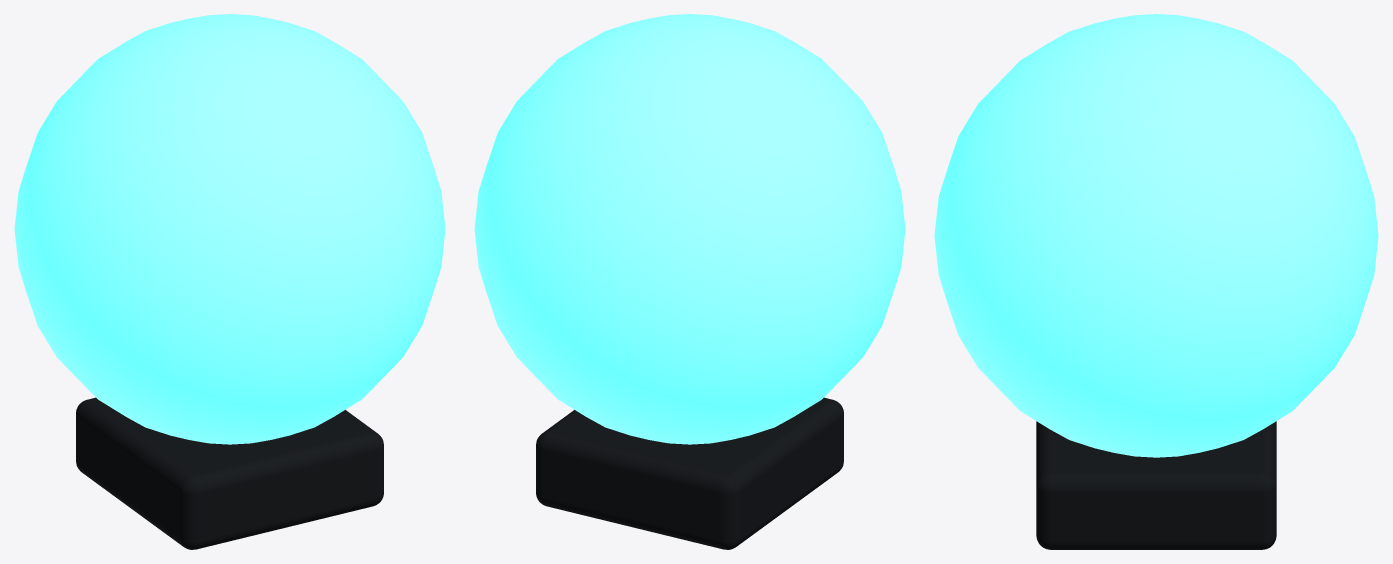
Rendered from emp.glb.
3 views of the same model, side by side, from view 1: azimuth 30°, elevation 25°; view 2: azimuth 150°, elevation 25°; view 3: azimuth 270°, elevation 25° (orthographic). The views are drawn at different scales.
Parts seen in each view (by area): view 1: emp-weapon; view 2: emp-weapon; view 3: emp-weapon.
Boxes of the visible parts, x1,y1,x2,y2 form: emp-weapon: (14, 14, 445, 549); emp-weapon: (474, 14, 905, 549); emp-weapon: (934, 14, 1378, 549).
Size of the model in its own units: 0.96 by 1.12 by 0.96.
